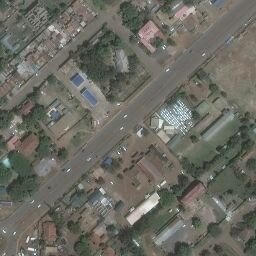tree: (206, 222, 222, 237), (74, 240, 89, 254), (237, 125, 250, 138), (56, 146, 68, 159), (68, 223, 80, 234), (177, 174, 188, 186), (191, 217, 201, 230), (105, 224, 116, 234), (246, 158, 256, 169), (213, 244, 223, 255), (208, 83, 219, 92), (190, 134, 198, 142)
